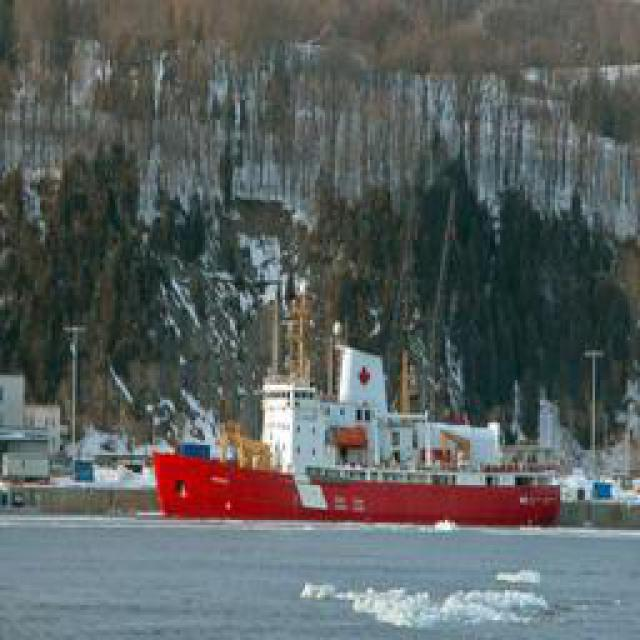Ship: (158, 405, 563, 530)
